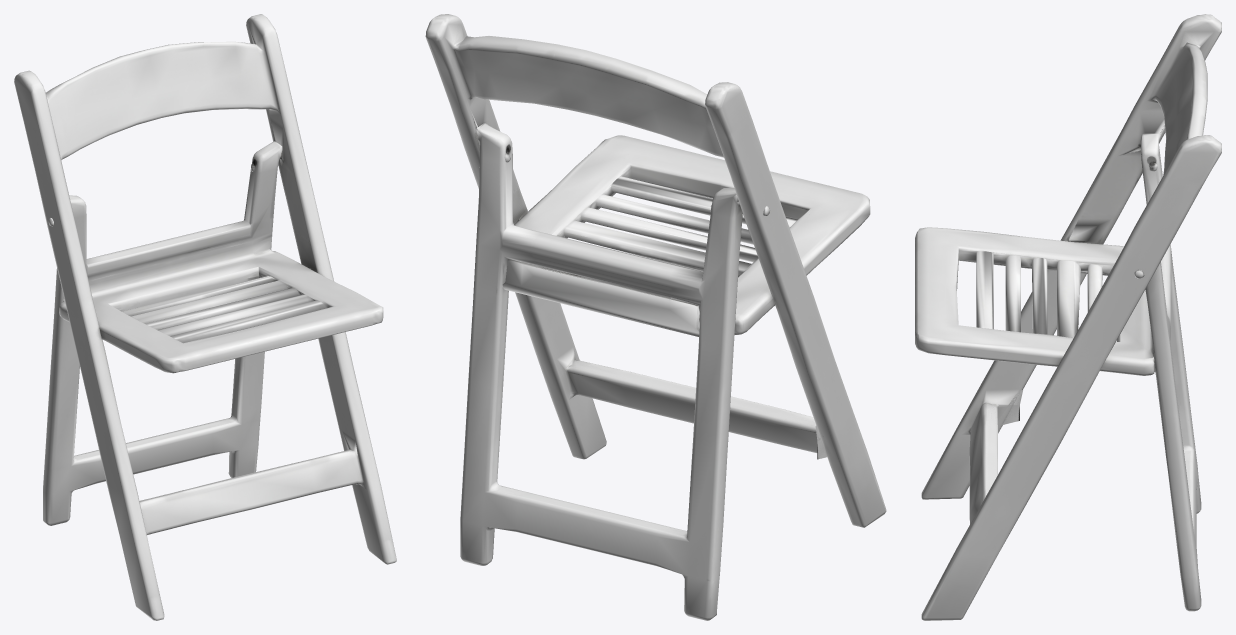
Rendered from White_Resin_Folding_C_0320031118_texture.glb.
The picture shows the model from 3 angles, left to right: view 1: azimuth 30°, elevation 25°; view 2: azimuth 150°, elevation 25°; view 3: azimuth 270°, elevation 25°; orthographic projection. The views are drawn at different scales.
Visible parts, largest first — view 1: Mesh_0.001; view 2: Mesh_0.001; view 3: Mesh_0.001.
Part boxes in pixels (box(x1,y1,x2,y2)): Mesh_0.001: box(14, 14, 396, 620); Mesh_0.001: box(425, 14, 886, 620); Mesh_0.001: box(915, 14, 1221, 620).
Bounding box in the file's own units: 20.77 × 36 × 20.77.
Materials: 1 (1 with a texture image).
